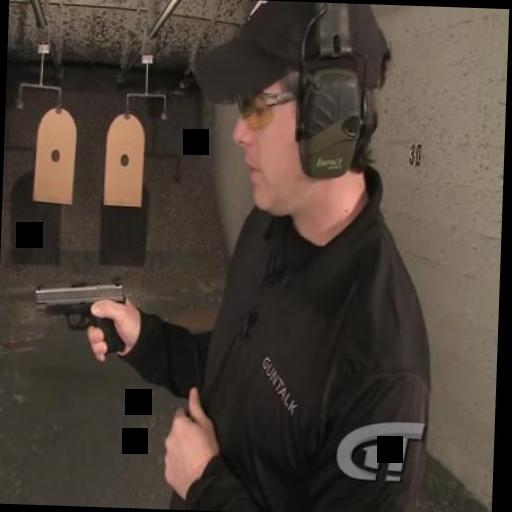Handgun: (28, 274, 130, 358)
